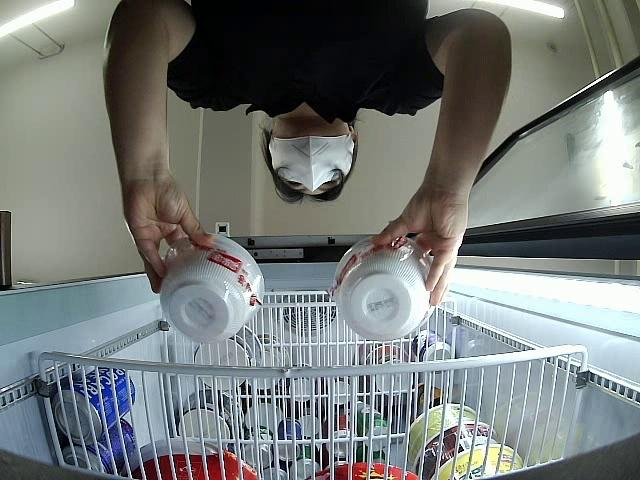00_hand: (372, 191, 466, 310), (121, 180, 215, 293)
09_yukGaeJang: (160, 235, 266, 345), (335, 233, 438, 344)
